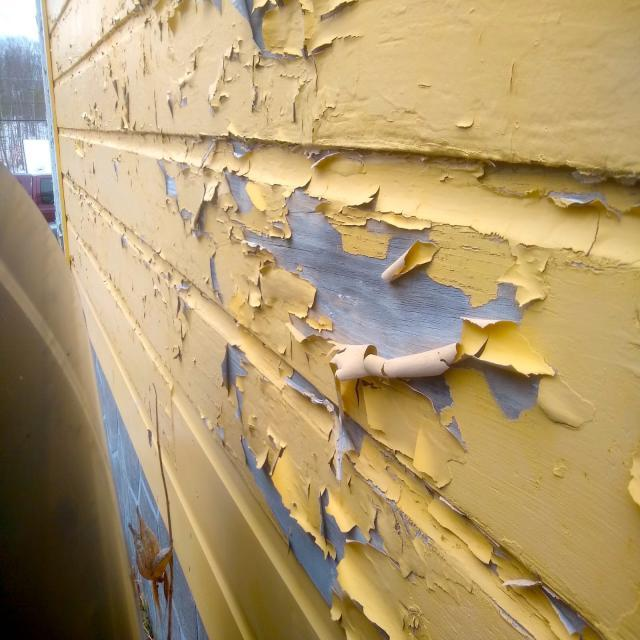peeling: (160, 5, 556, 605), (475, 154, 636, 220)
